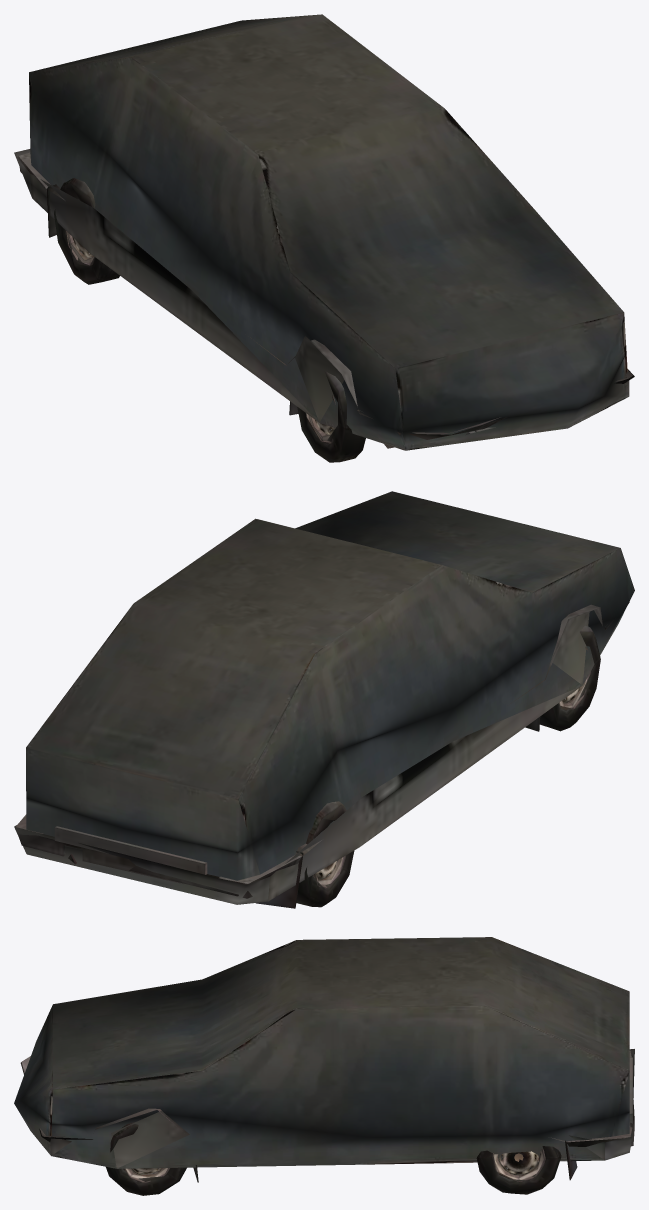
Rendered from p_car.glb.
3 renders of one model, top to bottom at view 1: azimuth 30°, elevation 25°; view 2: azimuth 150°, elevation 25°; view 3: azimuth 270°, elevation 25°, orthographic. The views are drawn at different scales.
Parts seen in each view (by area): view 1: covered_car, covered_car_wheel_02, covered_car_wheel_03; view 2: covered_car, covered_car_wheel_03, covered_car_wheel_02; view 3: covered_car, covered_car_wheel_04, covered_car_wheel_01.
Boxes of the visible parts, x1,y1,x2,y2 form: covered_car: (14, 14, 634, 450); covered_car_wheel_02: (297, 371, 365, 462); covered_car_wheel_03: (54, 178, 119, 284); covered_car: (14, 491, 634, 908); covered_car_wheel_03: (296, 801, 354, 907); covered_car_wheel_02: (539, 625, 600, 731); covered_car: (14, 937, 634, 1182); covered_car_wheel_04: (476, 1146, 561, 1194); covered_car_wheel_01: (106, 1122, 186, 1195).
Size of the model in its own units: 1.73 by 1.36 by 4.3.
1 material, 1 textured.
